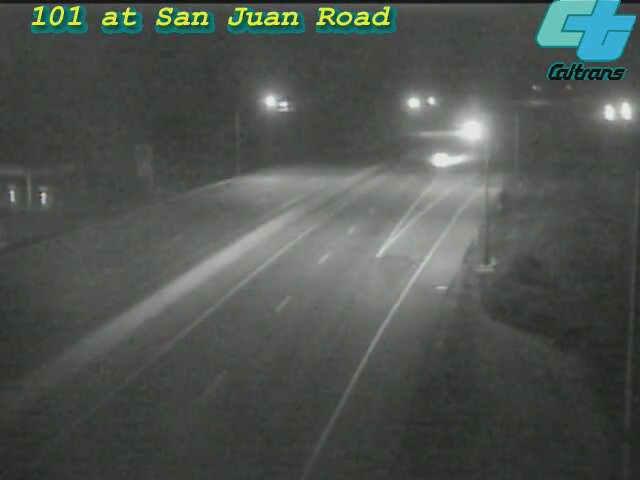vehicle: (447, 104, 497, 154), (416, 135, 466, 185), (580, 87, 630, 137), (601, 87, 640, 137)
